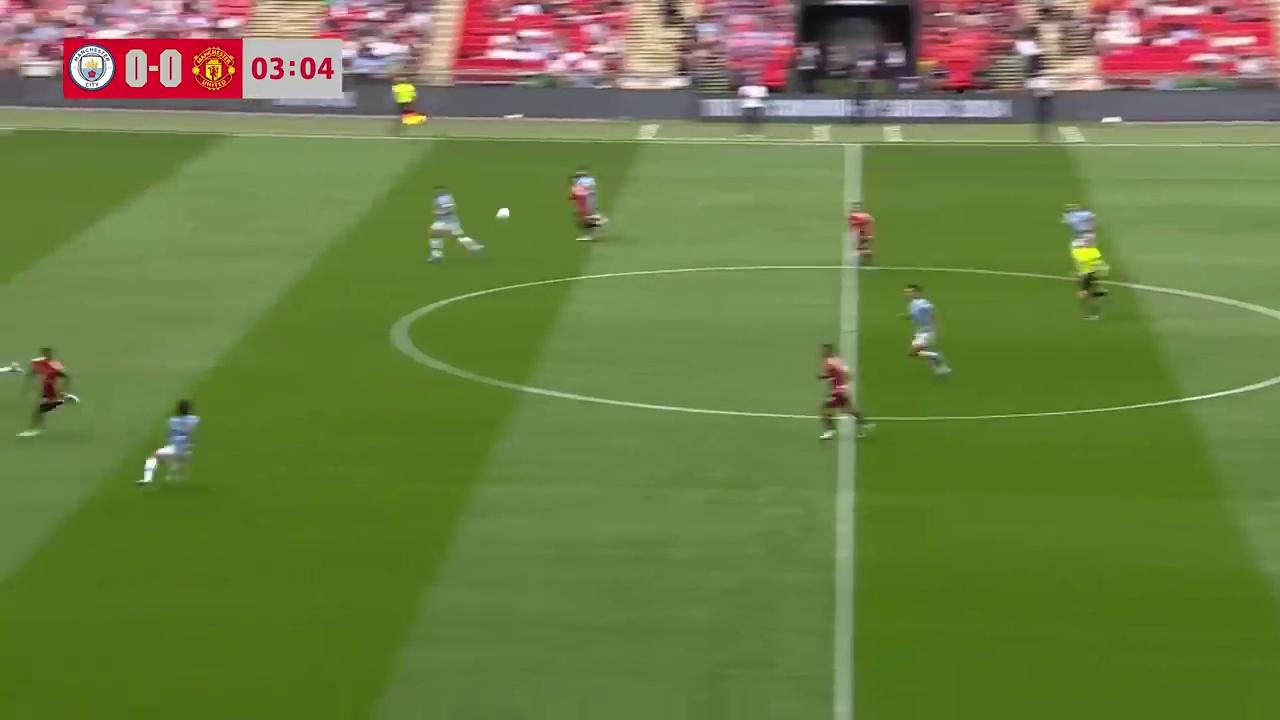ball: (494, 204, 512, 221)
player: (135, 399, 201, 485), (815, 344, 871, 440), (900, 284, 952, 376), (426, 186, 485, 261), (22, 347, 80, 423), (567, 170, 609, 236), (1060, 202, 1097, 260), (845, 205, 875, 266)
referee: (1070, 233, 1110, 316)
